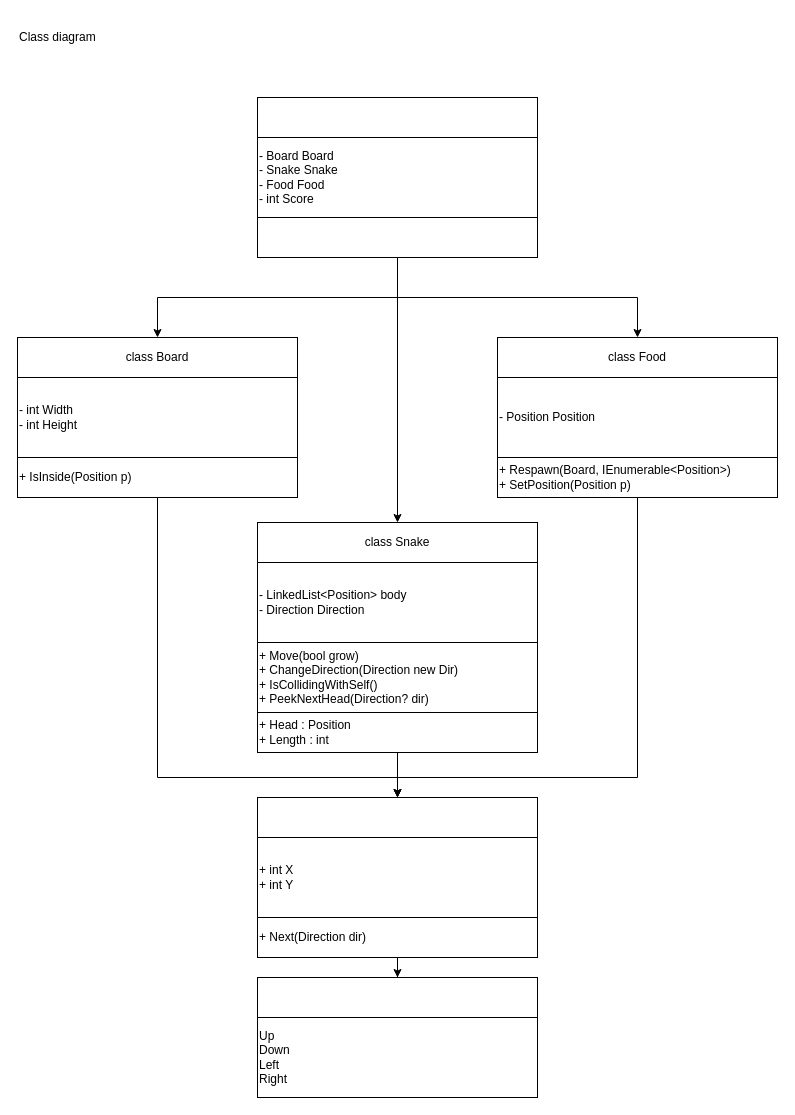
Image size: 795x1115. Some labels were removed from this diagram. The shapes that lost their labels are listed below. From the top down, each one's centre as x and y in pixels, then its label:
At point (397, 117): "class Game".
At point (397, 237): "+ Update(Direction? input)".
At point (397, 817): "class Position".
At point (397, 997): "enum Direction".
